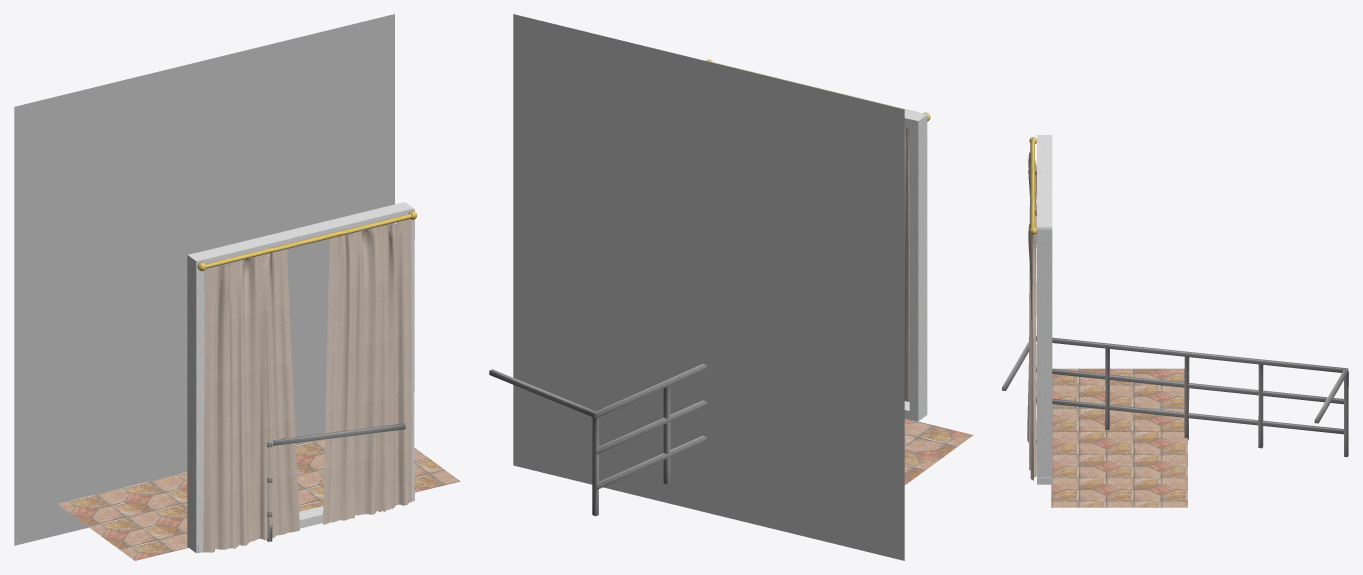
Rendered from ventana.FBX.
3 views of the same model, side by side, from view 1: azimuth 30°, elevation 25°; view 2: azimuth 150°, elevation 25°; view 3: azimuth 270°, elevation 25° (orthographic). The views are drawn at different scales.
Visible parts, largest first — view 1: Fondo, Cortina2, Cortina1, Piso, Marco, Riel, Varanda; view 2: Fondo, Marco, Varanda, Piso, Cortina2; view 3: Piso, Varanda, Marco, Cortina1, Riel.
Part boxes in pixels (bbox=[...]): Fondo: bbox=[14, 14, 394, 545]; Cortina2: bbox=[203, 249, 299, 552]; Cortina1: bbox=[323, 219, 411, 524]; Piso: bbox=[57, 439, 460, 560]; Marco: bbox=[187, 202, 414, 553]; Riel: bbox=[197, 211, 417, 271]; Varanda: bbox=[266, 423, 405, 541]; Fondo: bbox=[513, 14, 904, 560]; Marco: bbox=[704, 60, 927, 421]; Varanda: bbox=[489, 364, 706, 516]; Piso: bbox=[904, 418, 973, 485]; Cortina2: bbox=[904, 127, 909, 401]; Piso: bbox=[1051, 368, 1187, 507]; Varanda: bbox=[1002, 336, 1348, 457]; Marco: bbox=[1037, 135, 1052, 484]; Cortina1: bbox=[1027, 204, 1036, 480]; Riel: bbox=[1029, 137, 1036, 234].
Bounding box in the file's own units: 8.19 × 7.38 × 9.02.
